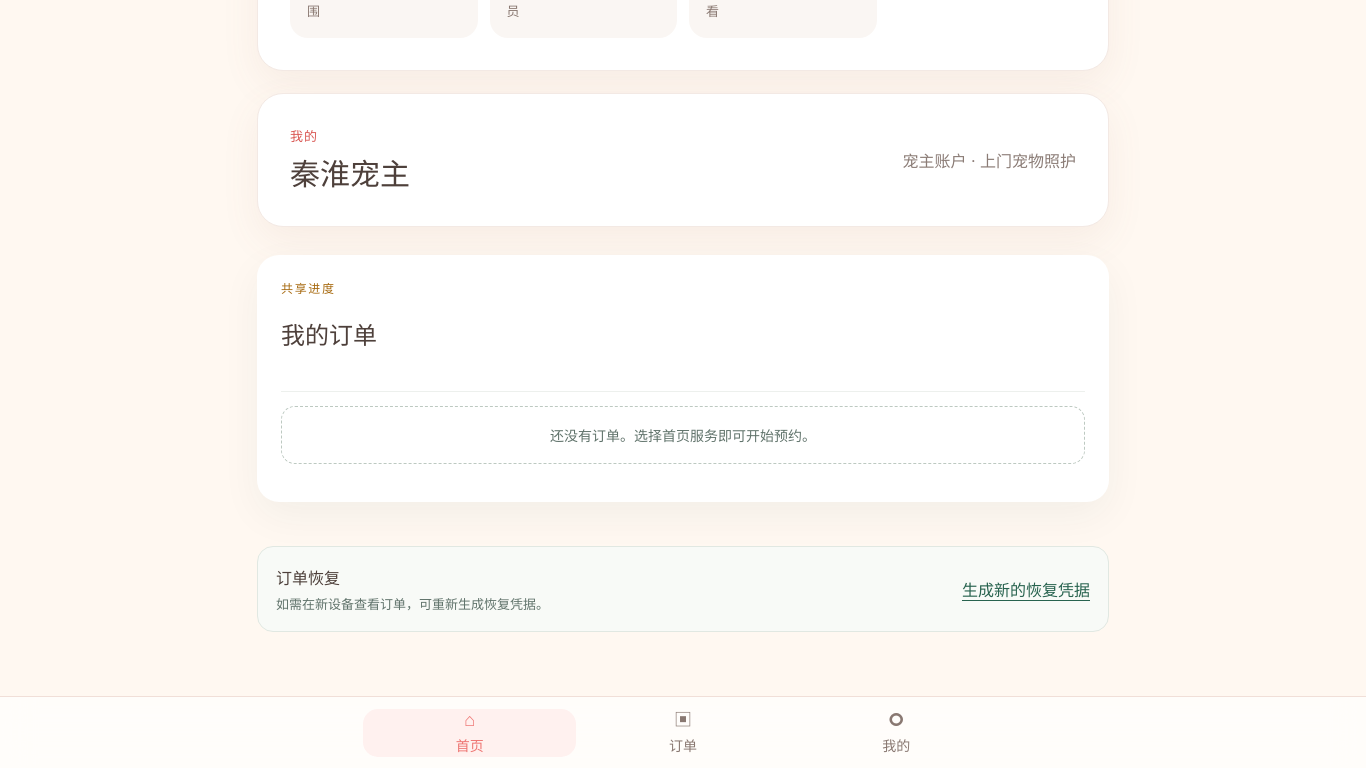
Test: PilotApp › ignores a late recovery rotation response after the owner session has changed
(page scrolled)
Click the button "生成新的恢复凭据": (1026, 589) [962, 567, 1090, 611]
(page scrolled)
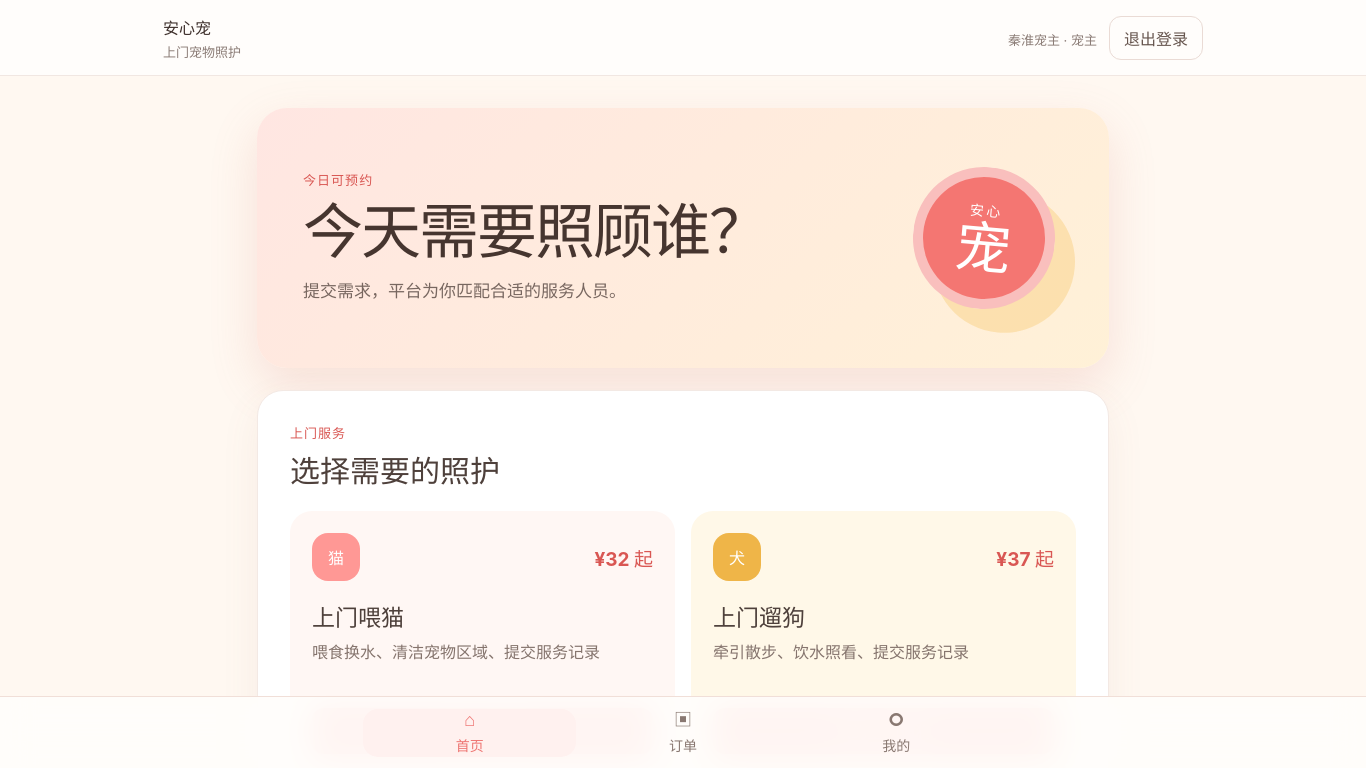
Click the button "退出登录": (1156, 38) [1109, 16, 1203, 60]
(page scrolled)
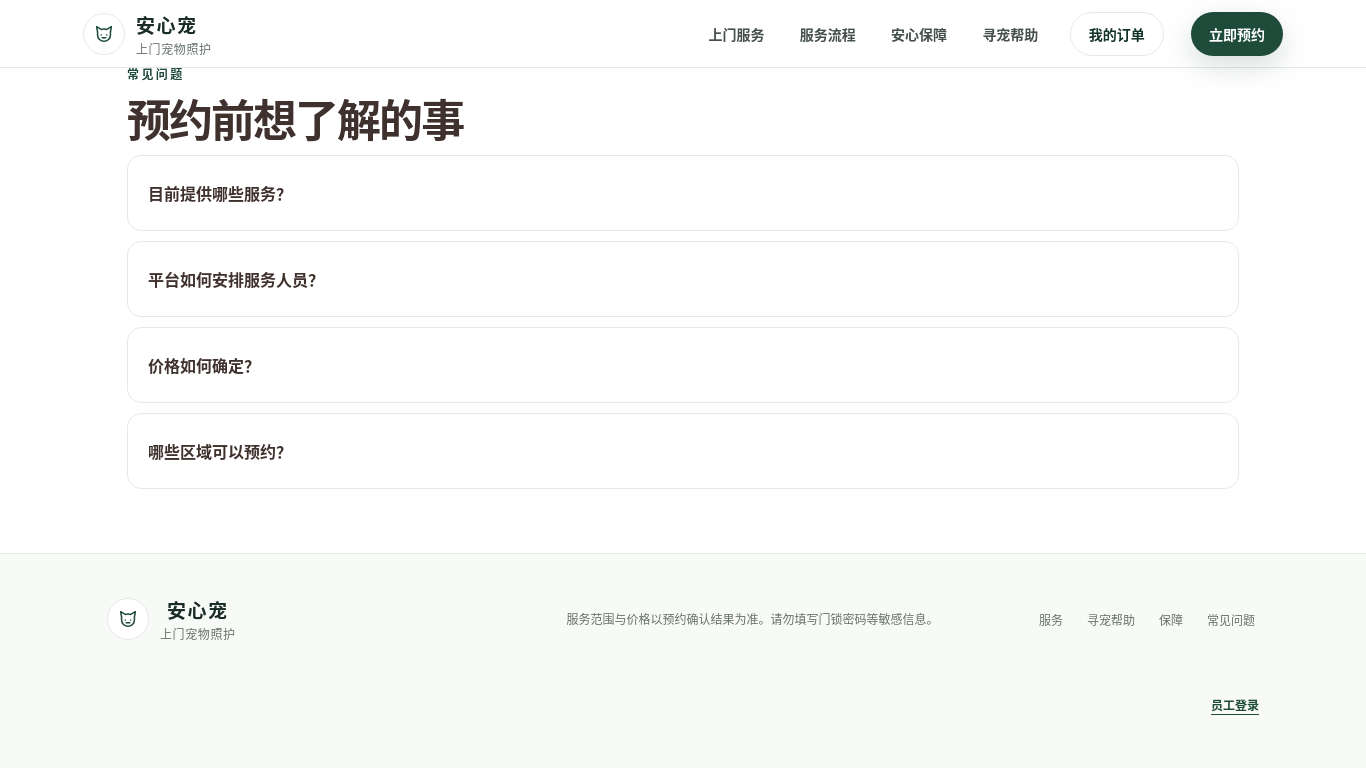
Check: the button "员工登录" is shown, box [1211, 682, 1259, 726]
